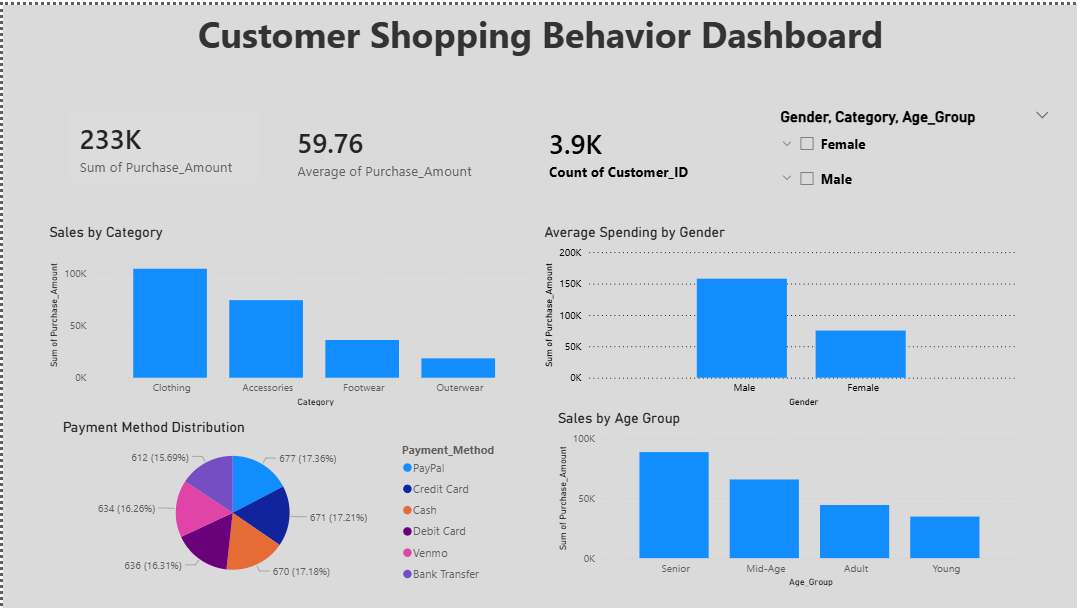

Layout of this report page (visuals, bound fields, positions):
{"tool":"powerbi","page":{"name":"Page 1","canvas":[1280,720],"ordinal":0},"visuals":[{"type":"cardVisual","fields":{"Data":["Avg(cleaned_data.Purchase_Amount)"]},"box":[321.7,121.7,285,106.7],"z":0},{"type":"cardVisual","fields":{"Data":["CountNonNull(cleaned_data.Customer_ID)"]},"box":[606.7,90,285,170],"z":1000},{"type":"clusteredColumnChart","title":"Sales by Category","fields":{"Category":["cleaned_data.Category"],"Y":["Sum(cleaned_data.Purchase_Amount)"]},"box":[50,260,590,221.7],"z":2000},{"type":"clusteredColumnChart","title":"Average Spending by Gender","fields":{"Category":["cleaned_data.Gender"],"Y":["Sum(cleaned_data.Purchase_Amount)"]},"box":[640,260,573.3,221.7],"z":3000},{"type":"clusteredColumnChart","title":"Sales by Age Group","fields":{"Category":["cleaned_data.Age_Group"],"Y":["Sum(cleaned_data.Purchase_Amount)"]},"box":[655,481.7,558.3,215],"z":4000},{"type":"pieChart","title":"Payment Method Distribution","fields":{"Category":["cleaned_data.Payment_Method"],"Y":["CountNonNull(cleaned_data.Customer_ID)"]},"box":[66.7,493.3,540,203.3],"z":5000},{"type":"slicer","fields":{"Values":["cleaned_data.Gender","cleaned_data.Category","cleaned_data.Age_Group"]},"box":[913.3,118.3,345,128.3],"z":6000},{"type":"cardVisual","fields":{"Data":["Sum(cleaned_data.Purchase_Amount)"]},"box":[63.3,110,258.3,118.3],"z":7000},{"type":"textbox","box":[0,0,1280,83.3],"z":8000}]}

Visuals, with their boxes in screenshot pixels (x1, y1, x2, y2), scaled from the page's 1280x720 canvas onto the 1077x608 screenshot:
cardVisual - Avg(cleaned_data.Purchase_Amount): bbox=(271, 103, 510, 193)
cardVisual - CountNonNull(cleaned_data.Customer_ID): bbox=(510, 76, 750, 220)
"Sales by Category" clusteredColumnChart: bbox=(42, 220, 538, 407)
"Average Spending by Gender" clusteredColumnChart: bbox=(538, 220, 1021, 407)
"Sales by Age Group" clusteredColumnChart: bbox=(551, 407, 1021, 588)
"Payment Method Distribution" pieChart: bbox=(56, 417, 510, 588)
slicer - cleaned_data.Gender x cleaned_data.Category: bbox=(768, 100, 1059, 208)
cardVisual - Sum(cleaned_data.Purchase_Amount): bbox=(53, 93, 271, 193)
textbox: bbox=(0, 0, 1076, 70)
